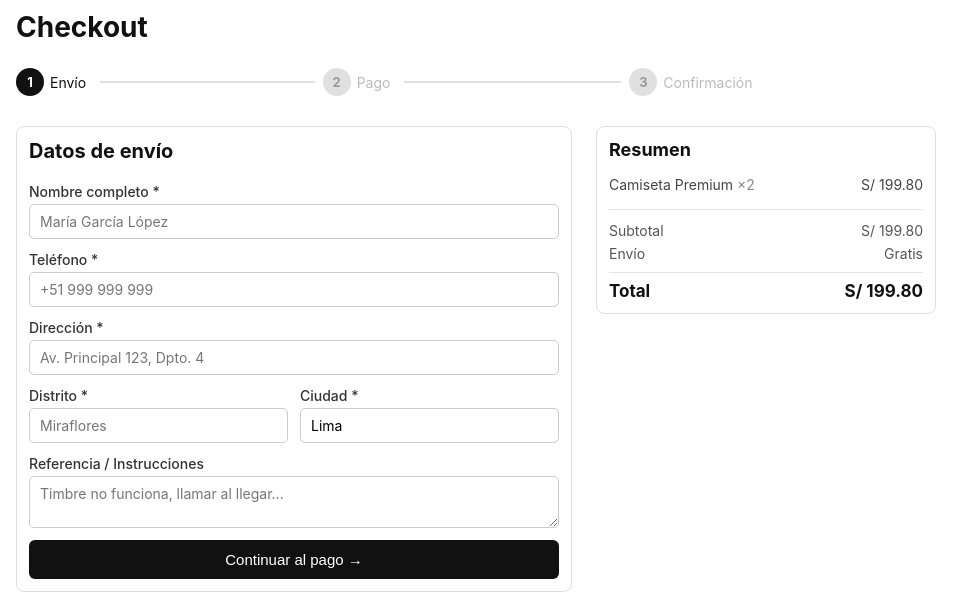
CheckoutPage › can navigate back from payment to delivery
Expected: the heading "Datos de envío" is shown, [29,139,173,163]
Type "Ana Torres" into the field with placeholder "María García López" at (294, 222), box [29,204,559,239]
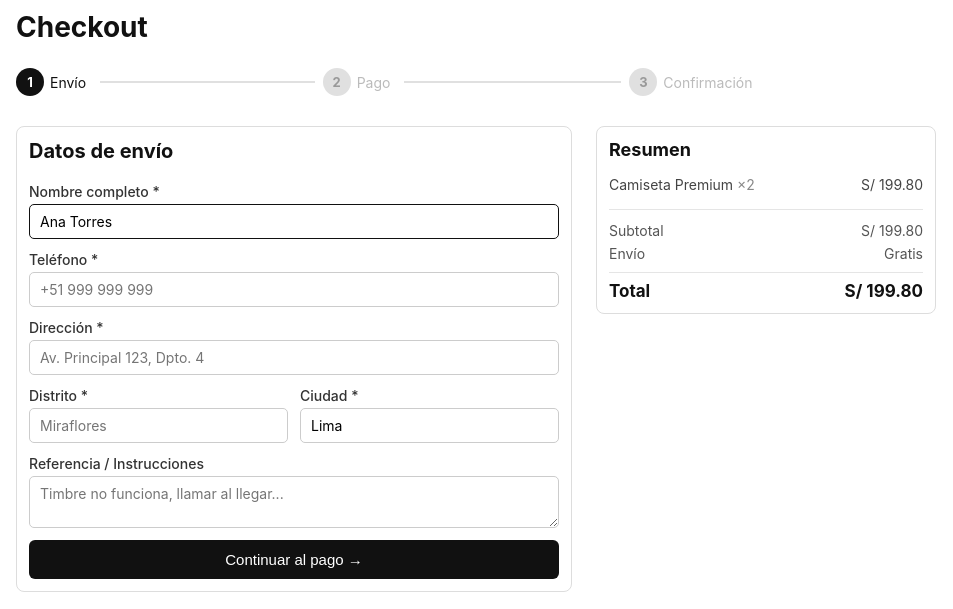
Type "999888777" into the field with placeholder "+51 999 999 999" at (294, 290), box [29,272,559,307]
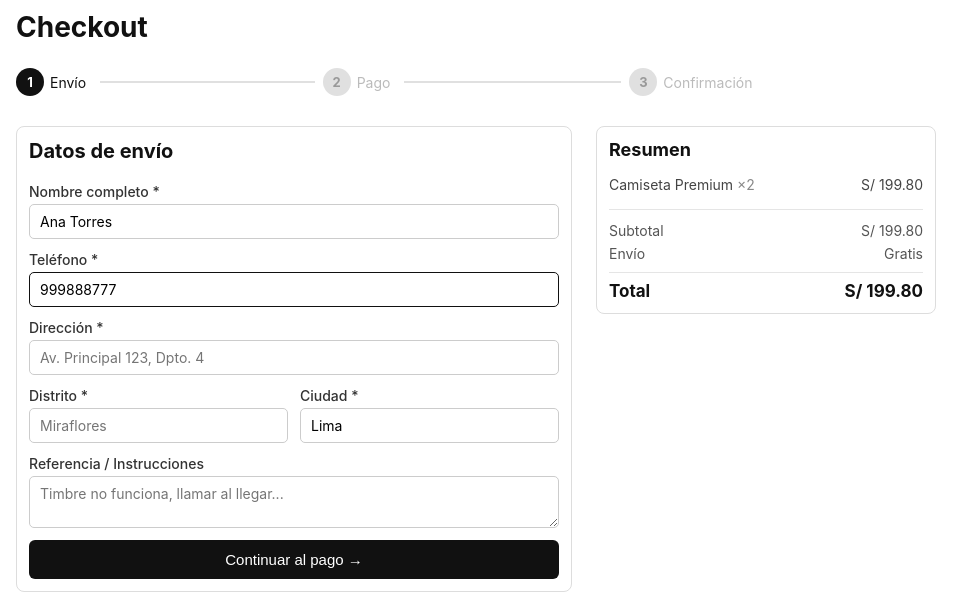
Type "Calle Los Álamos 456" into the field with placeholder "Av. Principal 123, Dpto. 4" at (294, 358), box [29,340,559,375]
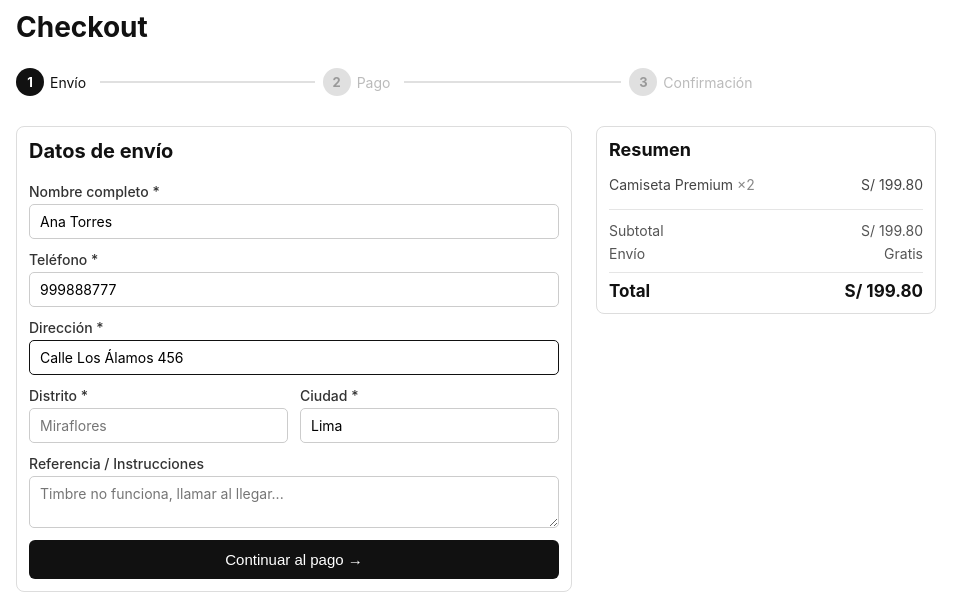
Type "San Isidro" into the field with placeholder "Miraflores" at (158, 426), box [29,408,288,443]
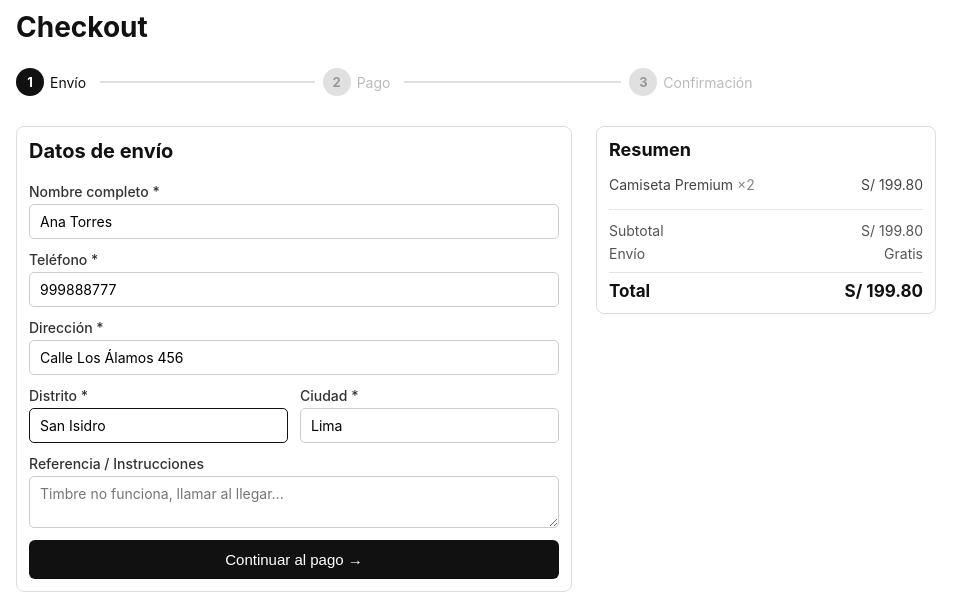
Click the button "Continuar al pago →" at (294, 560), box [29,540,559,579]
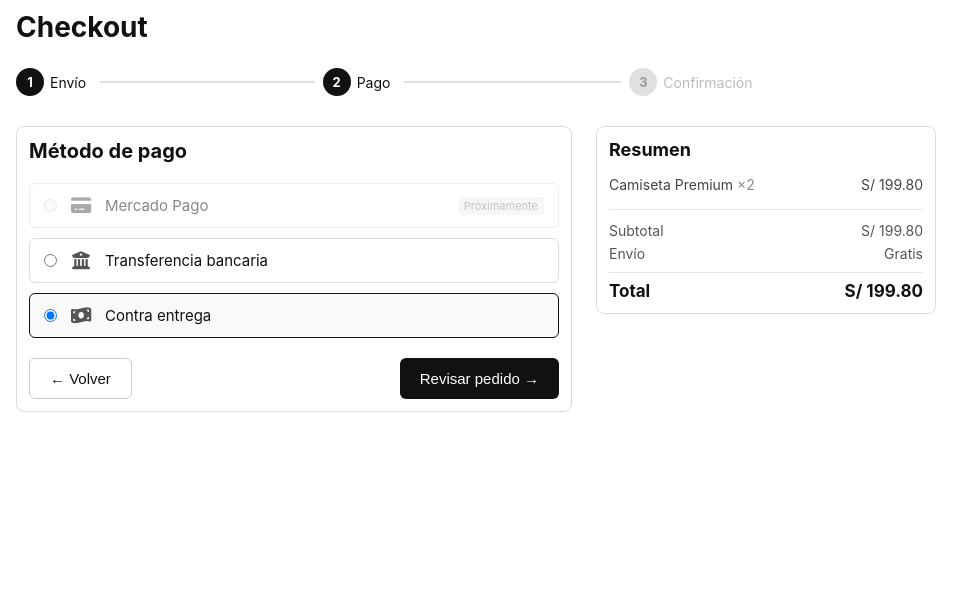
Expected: the heading "Método de pago" is shown, [29,139,187,163]
Click the button "← Volver" at (80, 378), box [29,358,132,399]
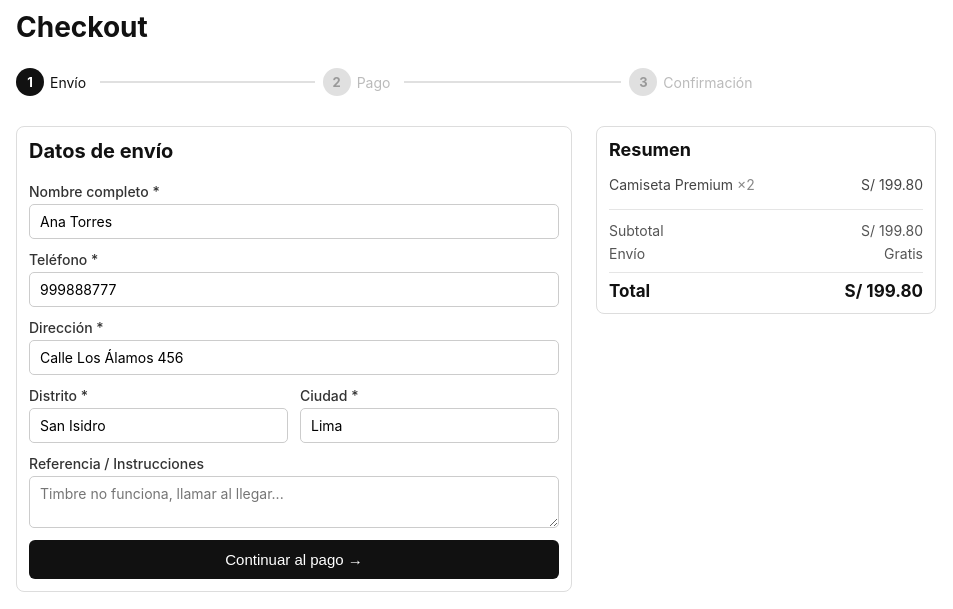
Expected: the heading "Datos de envío" is shown, [29,139,173,163]
